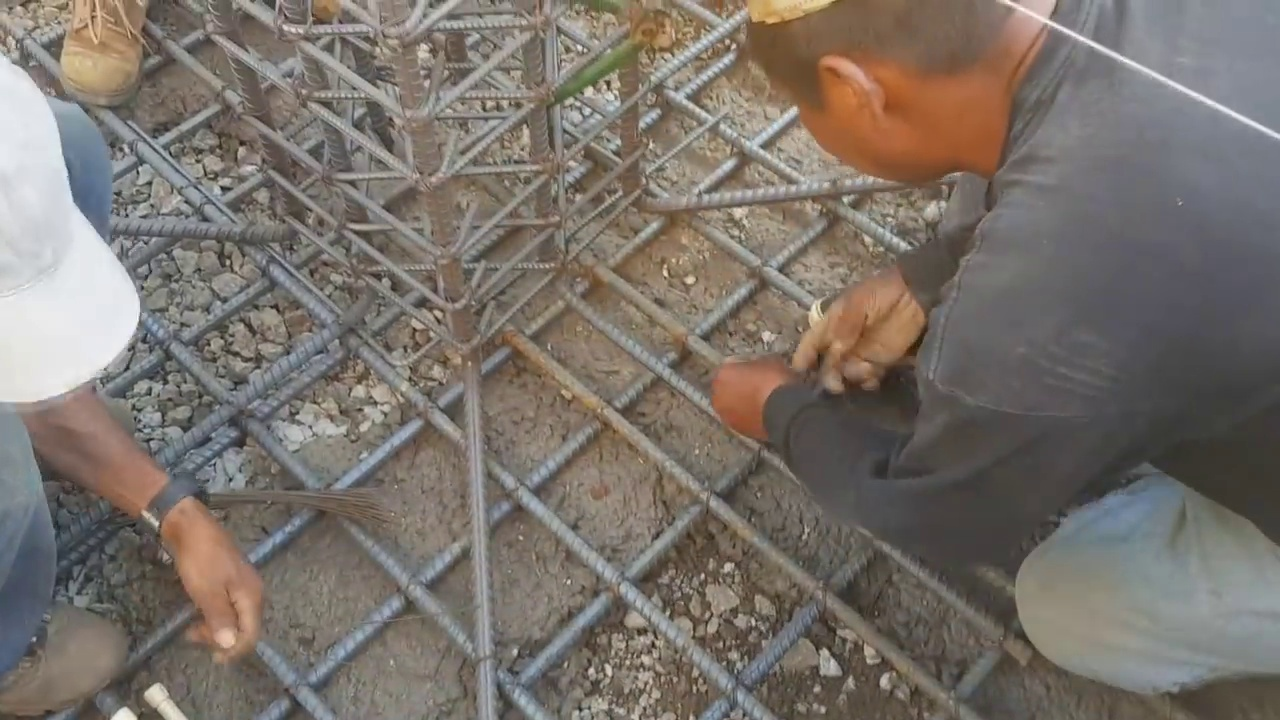helmet-off: (771, 0, 1059, 179), (0, 60, 136, 419)
person: (711, 6, 1280, 694), (0, 34, 259, 699)
